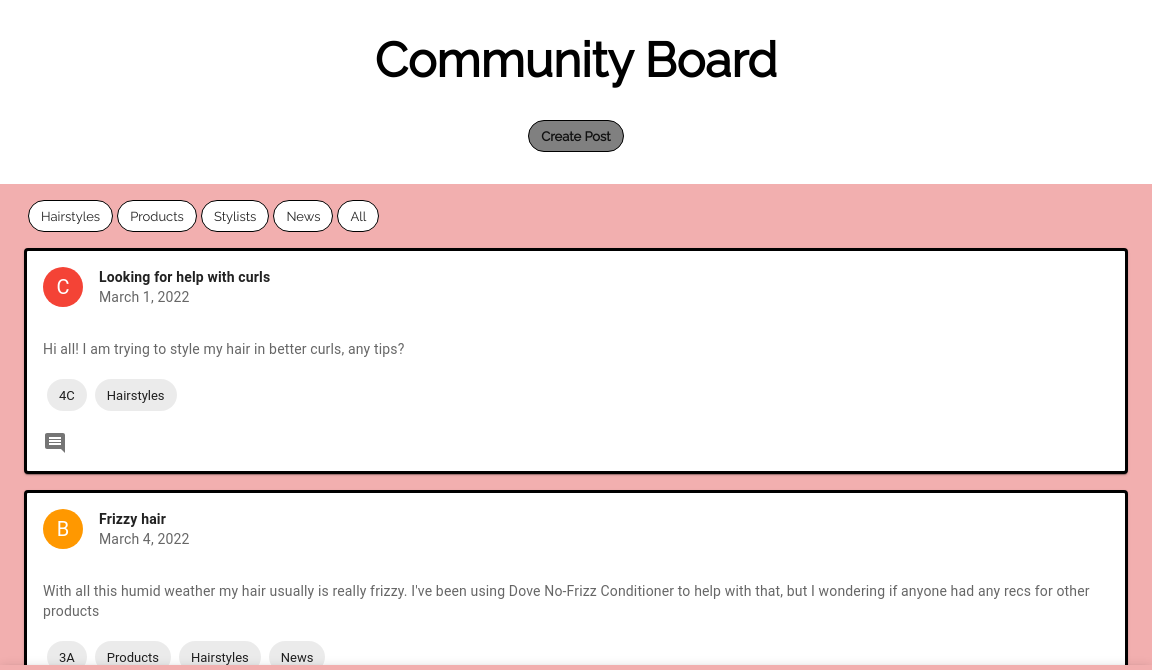
Test: Test Community Page › shows a coming soon banner on create post
Click the text "Create Post": (576, 137) [541,129,611,144]
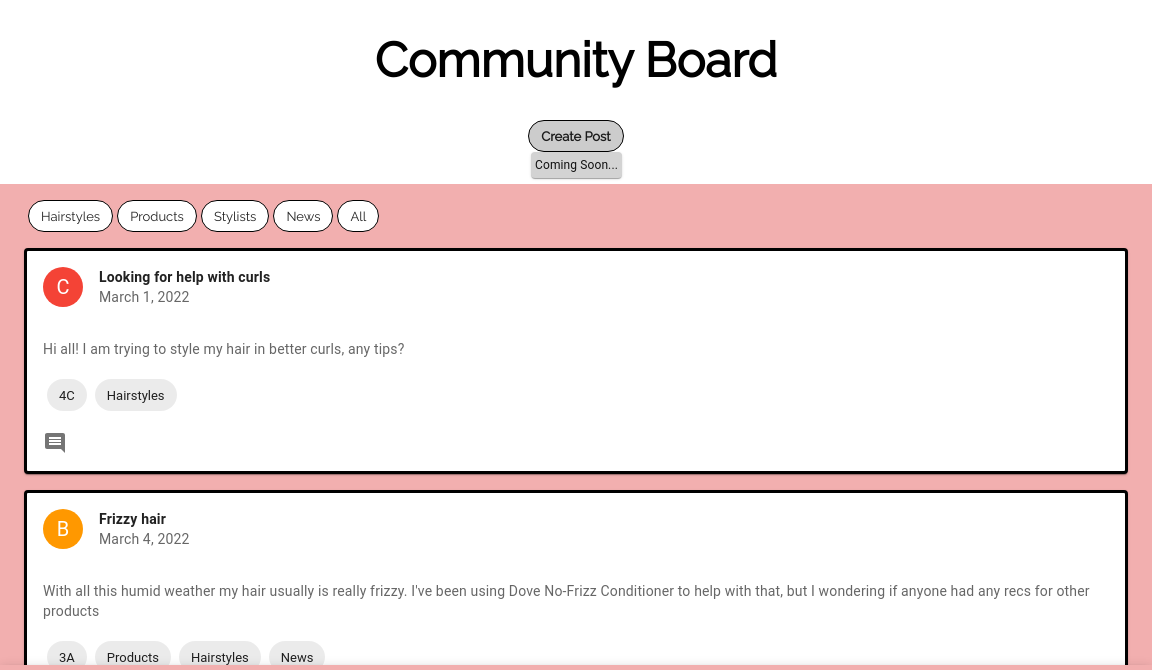
Expected: the text "Coming Soon..." is shown, [535,158,618,172]
